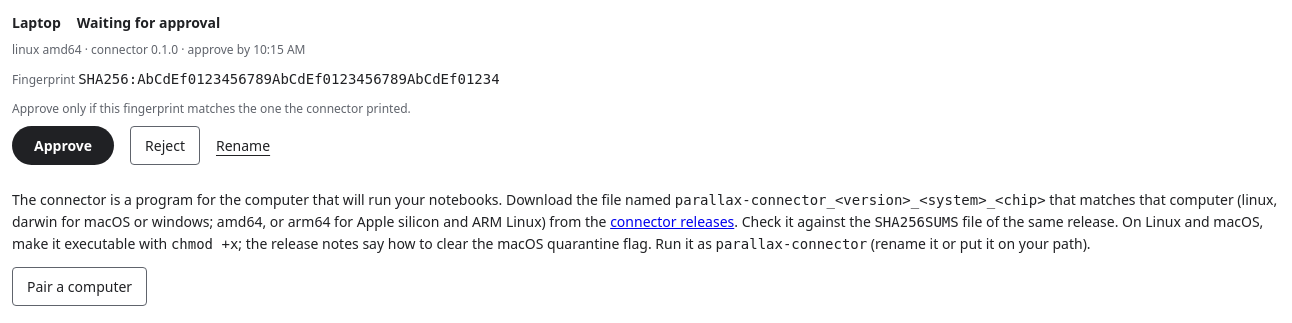
Test: DeviceList › a pending computer is approved only after its fingerprint is shown and Approve is pressed
The width and height of the screenshot is (1292, 323).
Expected: the text "Waiting for approval" is shown, [77,12,220,33]
Expected: the text "SHA256:AbCdEf0123456789AbCdEf0123456789AbCdEf01234" is shown, [78,71,500,87]
Click the button with aria-label "Approve Laptop": x=63, y=145 [12,126,114,164]
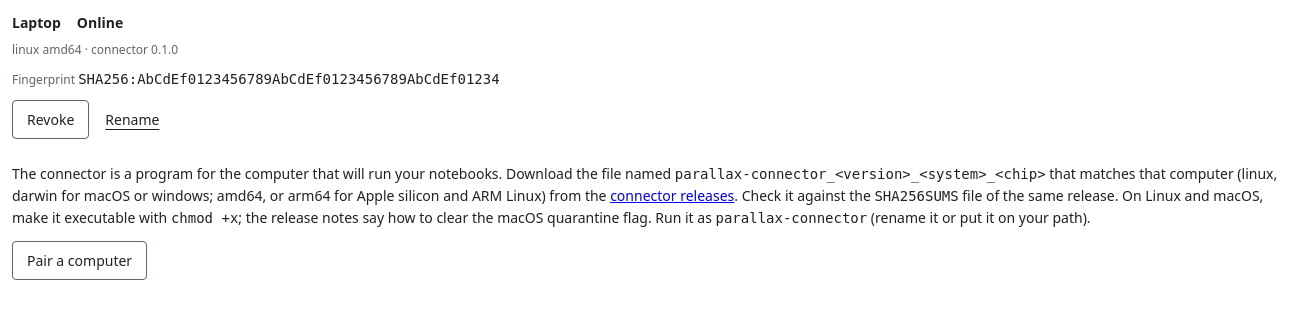
Expected: the text "Online" is shown, [77,12,123,33]
